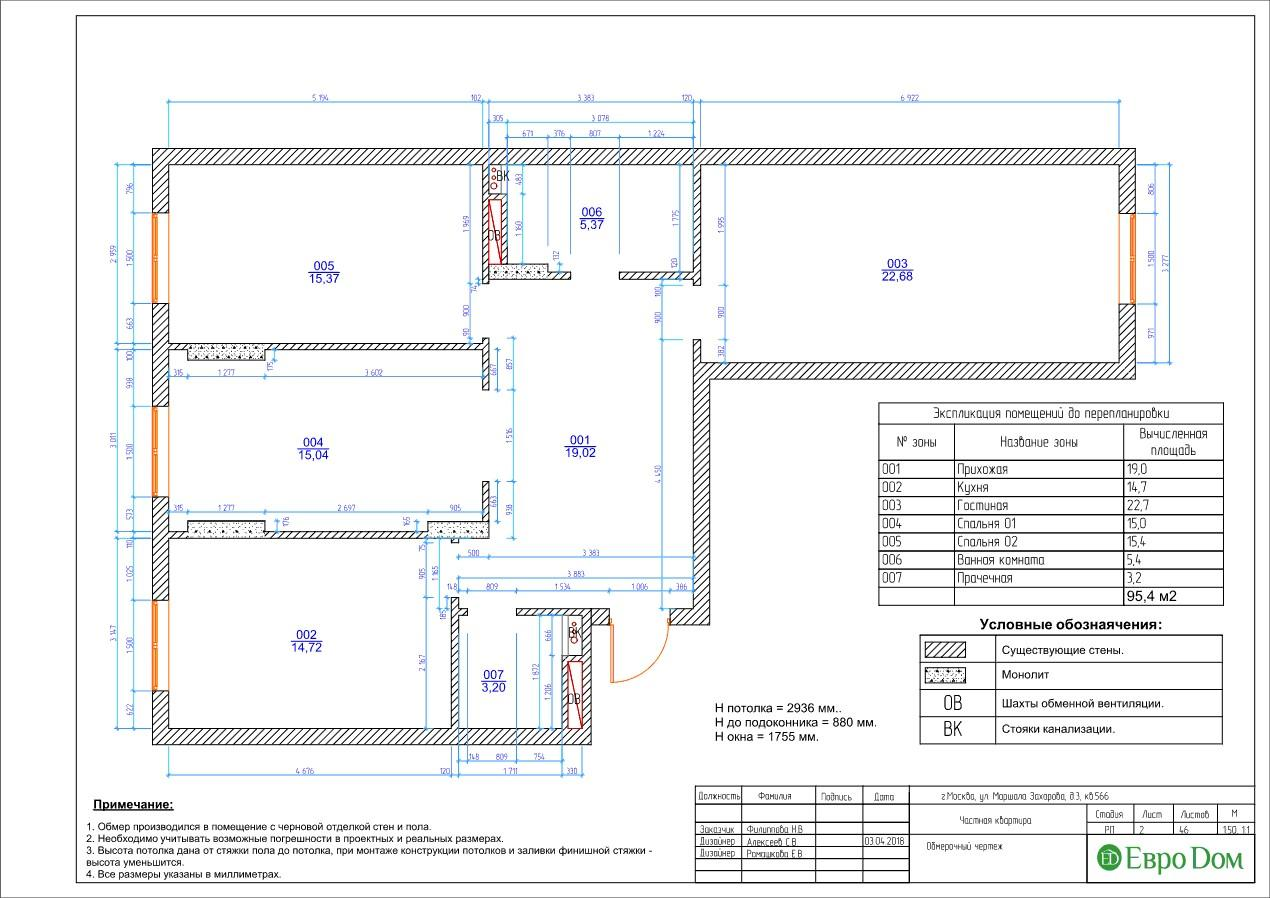bathroom: (491, 164, 695, 273)
bedroom: (169, 349, 483, 532), (168, 163, 482, 343)
hallway: (459, 278, 693, 609)
kitchen: (168, 538, 451, 729)
living_room: (701, 163, 1120, 364)
utility_room: (458, 617, 583, 730)
